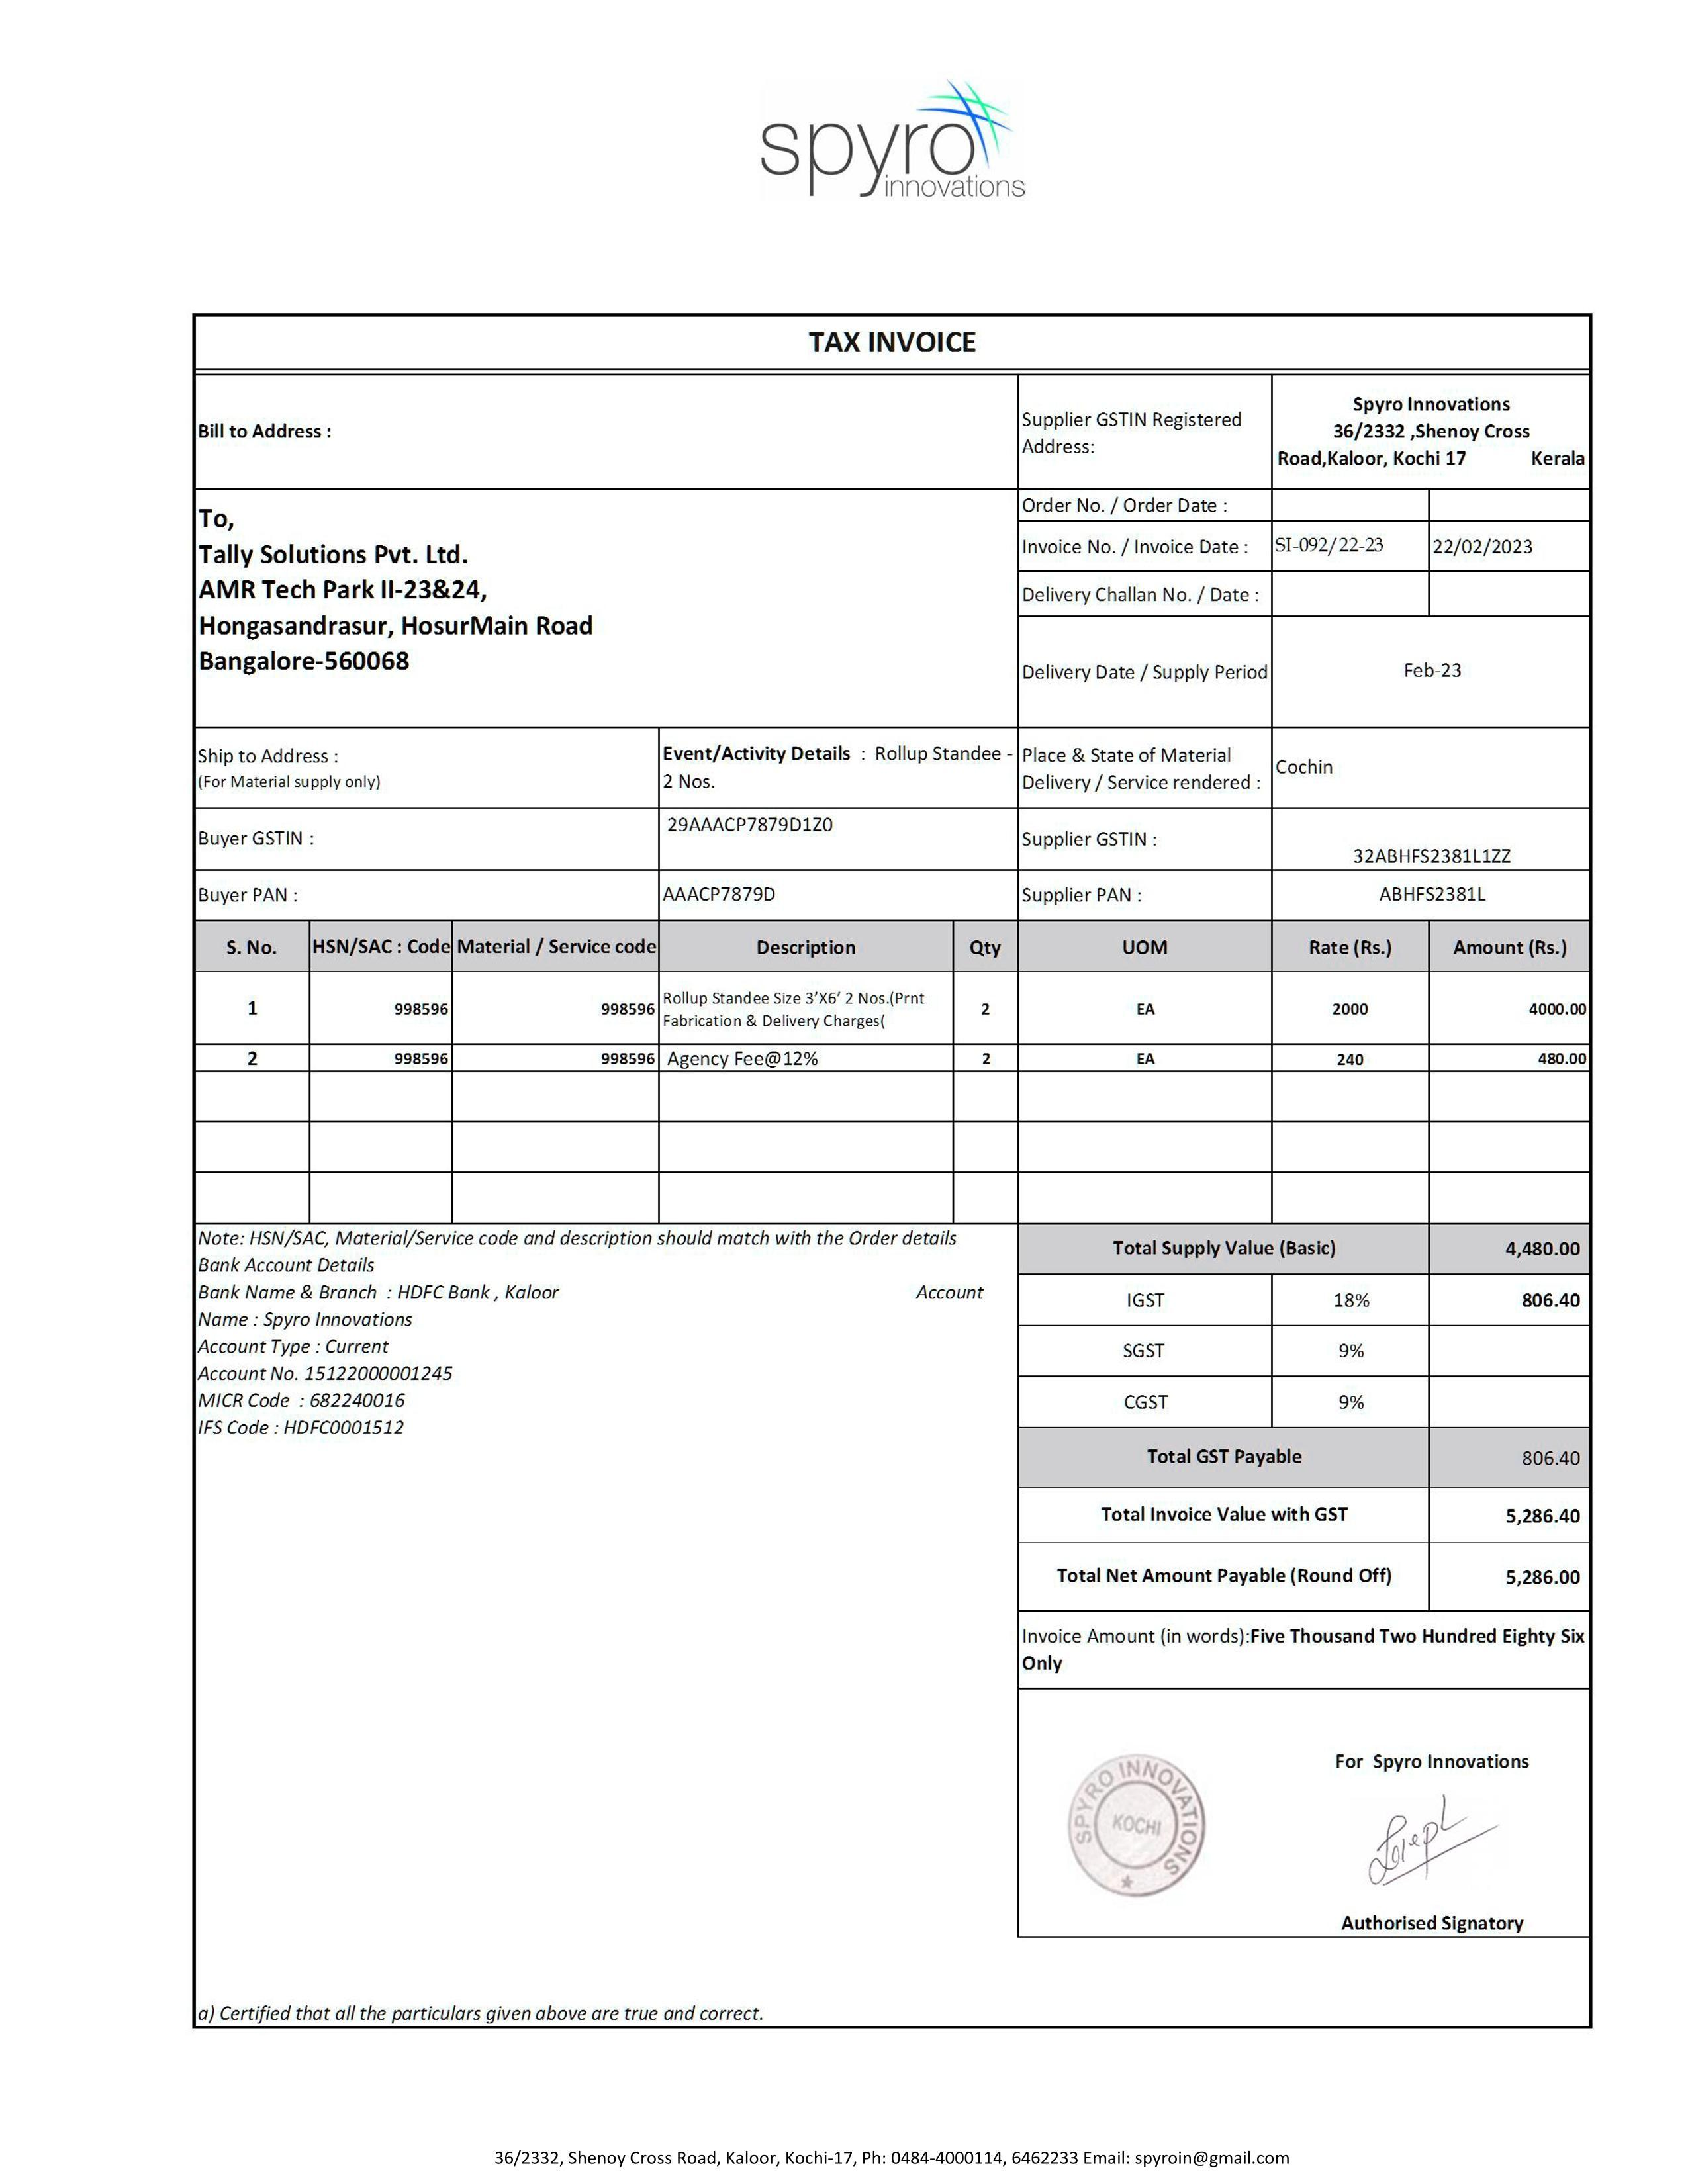InvoiceDate: (1429, 523, 1560, 574)
InvoiceNumber: (1273, 525, 1394, 567)
TotalAmount: (1497, 1555, 1590, 1603)
